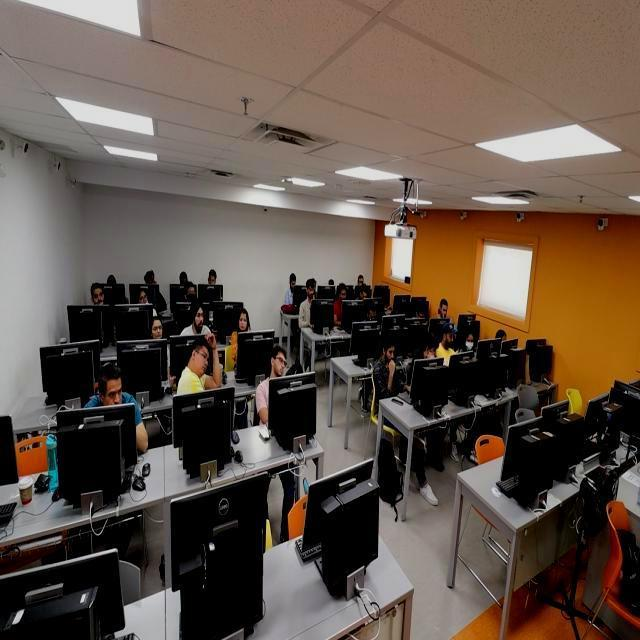Looking away: (382, 336, 396, 364), (423, 342, 438, 362), (442, 325, 455, 348), (464, 332, 474, 350)
Looking forward: (104, 373, 122, 408), (192, 344, 210, 376), (272, 351, 286, 376), (192, 304, 204, 333), (92, 282, 105, 308), (152, 316, 164, 339), (238, 313, 248, 332)
